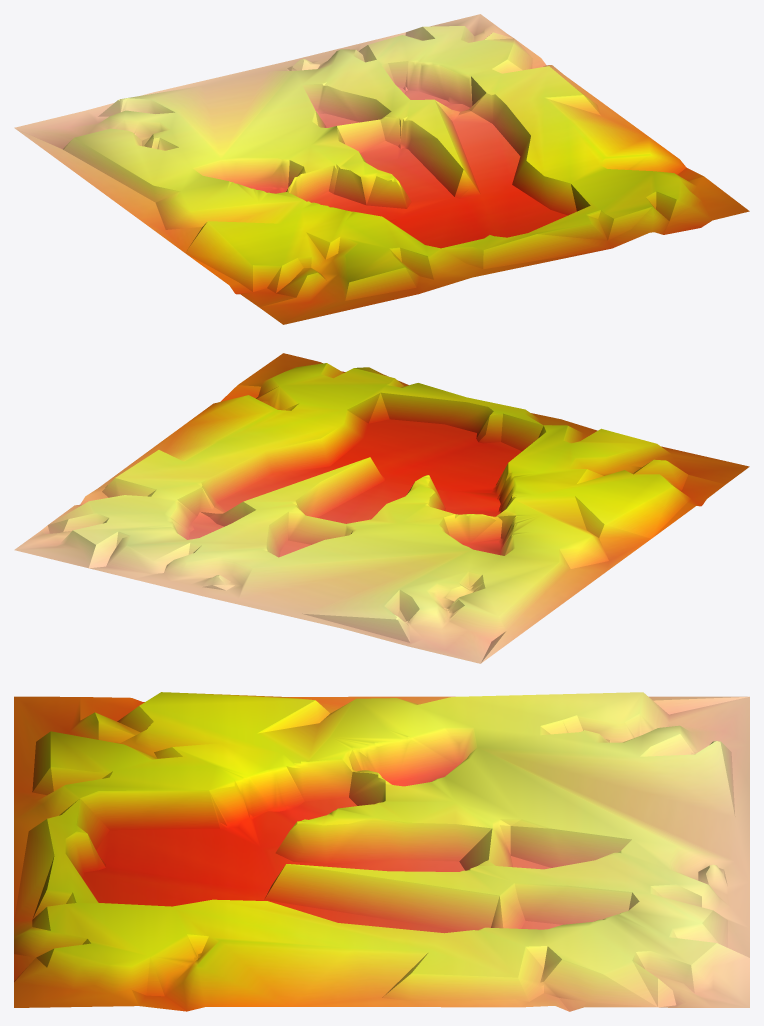
The model's file is dino-footprint.FBX.
3 views of the same model, one above another, from view 1: azimuth 30°, elevation 25°; view 2: azimuth 150°, elevation 25°; view 3: azimuth 270°, elevation 25° (orthographic). The views are drawn at different scales.
Parts seen in each view (by area): view 1: dino-footprint; view 2: dino-footprint; view 3: dino-footprint.
Part boxes in pixels (box(x1,y1,x2,y2)): dino-footprint: box(14, 14, 749, 324); dino-footprint: box(14, 353, 749, 663); dino-footprint: box(14, 692, 749, 1011).
Size of the model in its own units: 1 by 1 by 0.0498.
